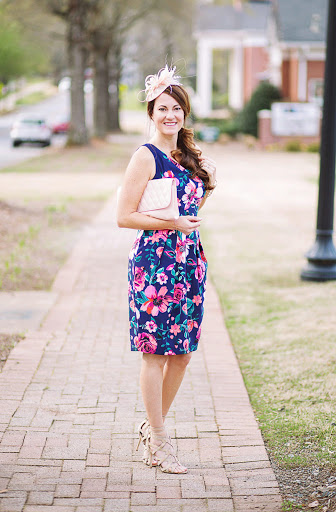Person: (91, 66, 230, 478)
